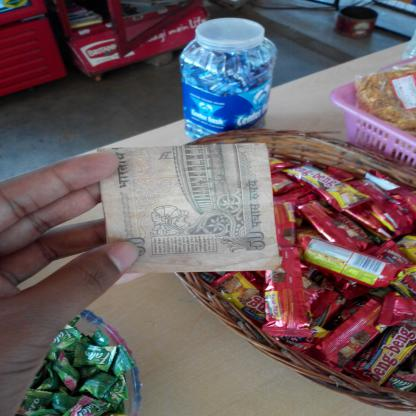Old50Back: (97, 142, 280, 273)
